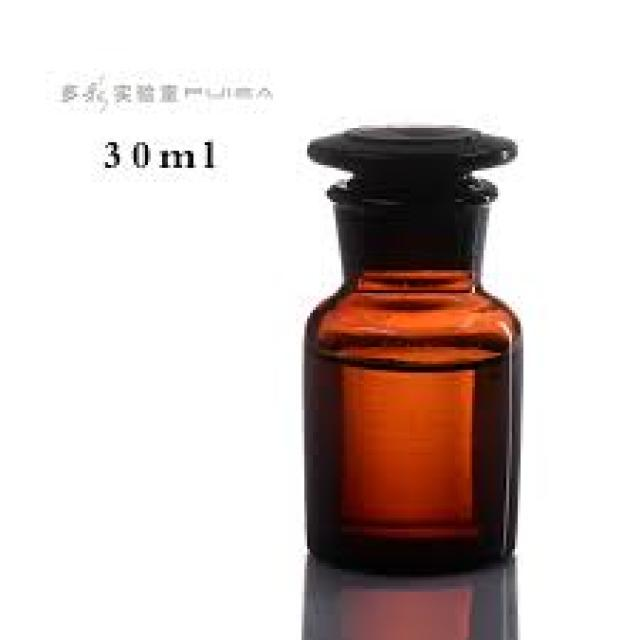glass: (299, 123, 521, 578)
